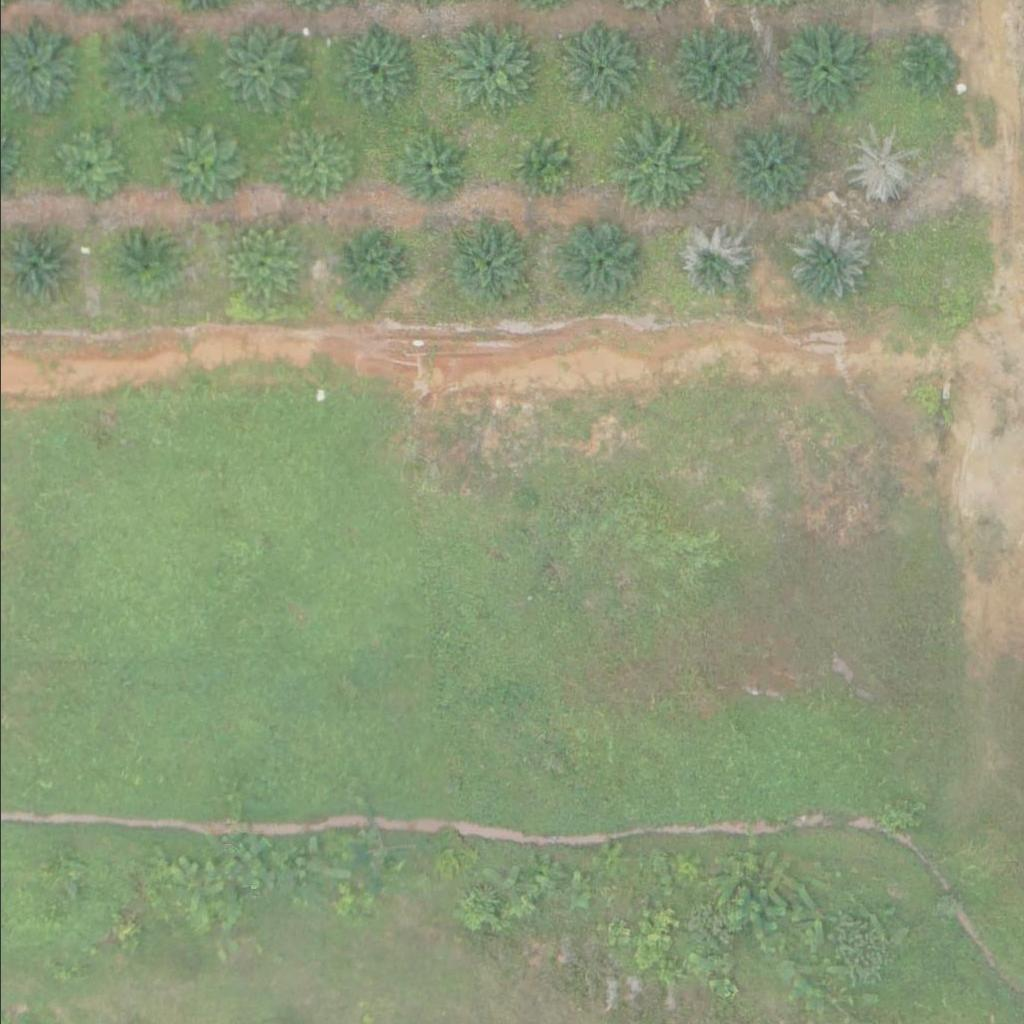Kelapa_Sawit: (92, 14, 193, 114), (772, 21, 872, 121), (718, 120, 818, 220), (604, 120, 704, 220), (326, 29, 415, 117), (782, 216, 870, 304), (552, 218, 640, 306), (441, 219, 529, 307), (213, 24, 301, 112), (160, 120, 248, 207), (667, 26, 755, 113), (551, 25, 639, 112), (441, 26, 529, 113), (843, 127, 919, 202), (673, 228, 749, 303), (389, 133, 464, 208), (47, 131, 122, 206), (226, 223, 301, 298), (334, 230, 409, 305), (278, 125, 353, 200), (115, 228, 178, 291), (506, 135, 569, 198), (897, 31, 959, 93)
